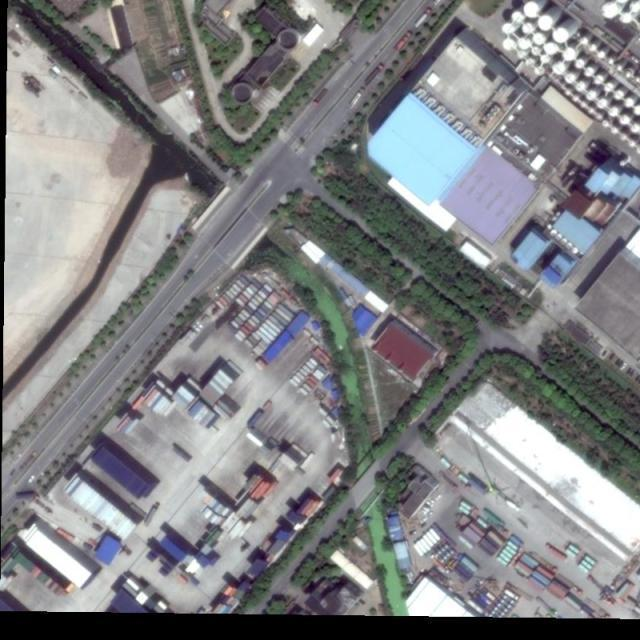vehicle: (364, 62, 384, 86), (414, 4, 432, 28), (348, 87, 366, 110), (395, 31, 413, 52), (312, 86, 330, 106), (27, 475, 34, 483), (432, 1, 441, 6)
